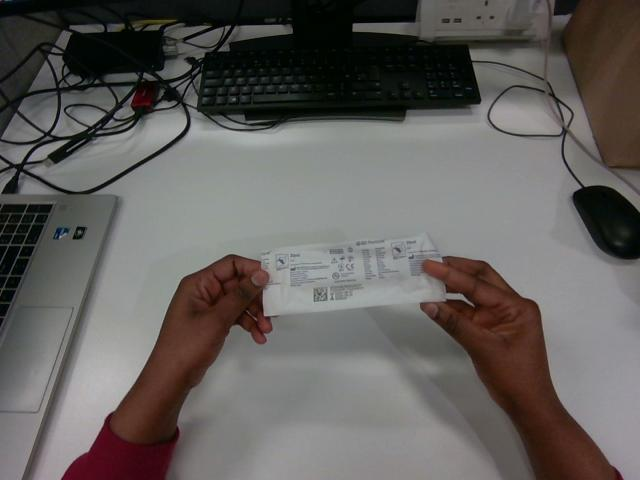syringe: (261, 233, 445, 315)
